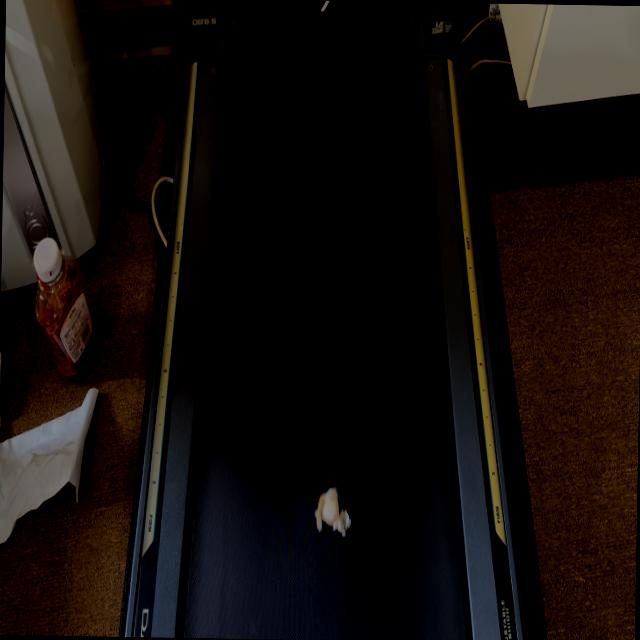Trash: (314, 492, 356, 544)
